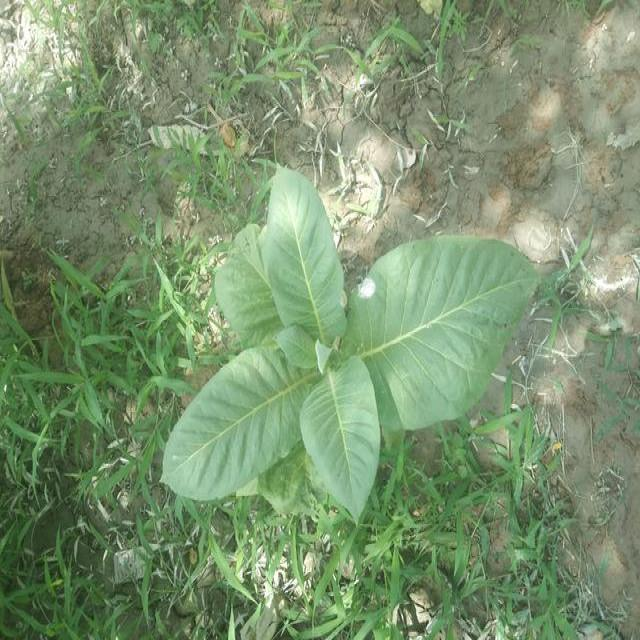crop: (155, 169, 544, 534)
